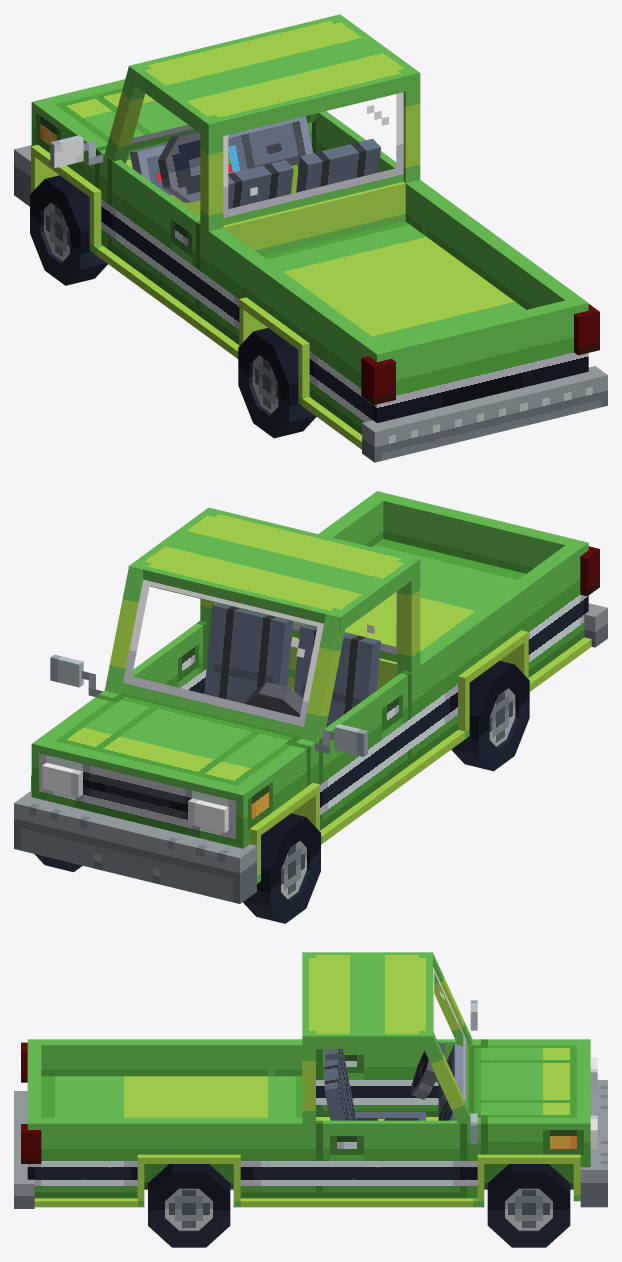
Rendered from pickup-green.gltf.
3 views of the same model, one above another, from view 1: azimuth 30°, elevation 25°; view 2: azimuth 150°, elevation 25°; view 3: azimuth 270°, elevation 25° (orthographic). The views are drawn at different scales.
Visible parts, largest first — view 1: cube (×37), tube (×2), cylinder (×3); view 2: cube (×37), tube (×2), cylinder (×3); view 3: cube (×37), tube (×2), cylinder (×3).
Boxes of the visible parts, x1=… form: cube (×37): x1=14, y1=14, x2=607, y2=462; tube (×2): x1=30, y1=175, x2=316, y2=438; cylinder (×3): x1=44, y1=131, x2=278, y2=413; cube (×37): x1=14, y1=491, x2=607, y2=903; tube (×2): x1=243, y1=661, x2=529, y2=923; cylinder (×3): x1=245, y1=682, x2=515, y2=899; cube (×37): x1=14, y1=952, x2=607, y2=1208; tube (×2): x1=148, y1=1164, x2=570, y2=1247; cylinder (×3): x1=165, y1=1042, x2=552, y2=1230.
Bounding box in the file's own units: 2.69 × 2.06 × 5.41.
2 materials, 2 textured.
